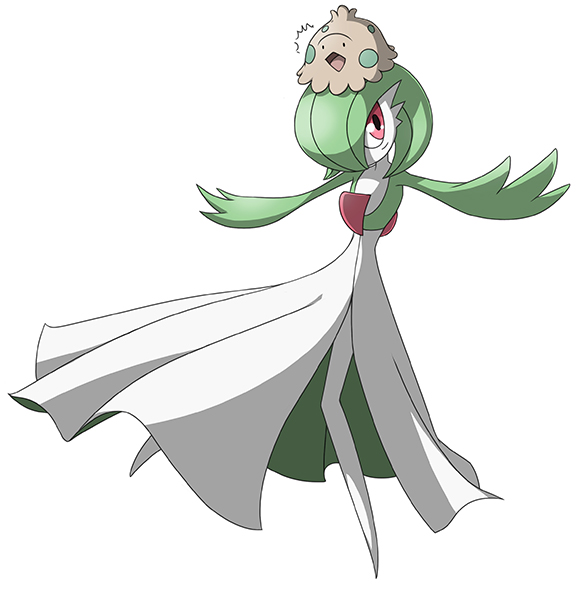gardevoir: (12, 54, 560, 581)
